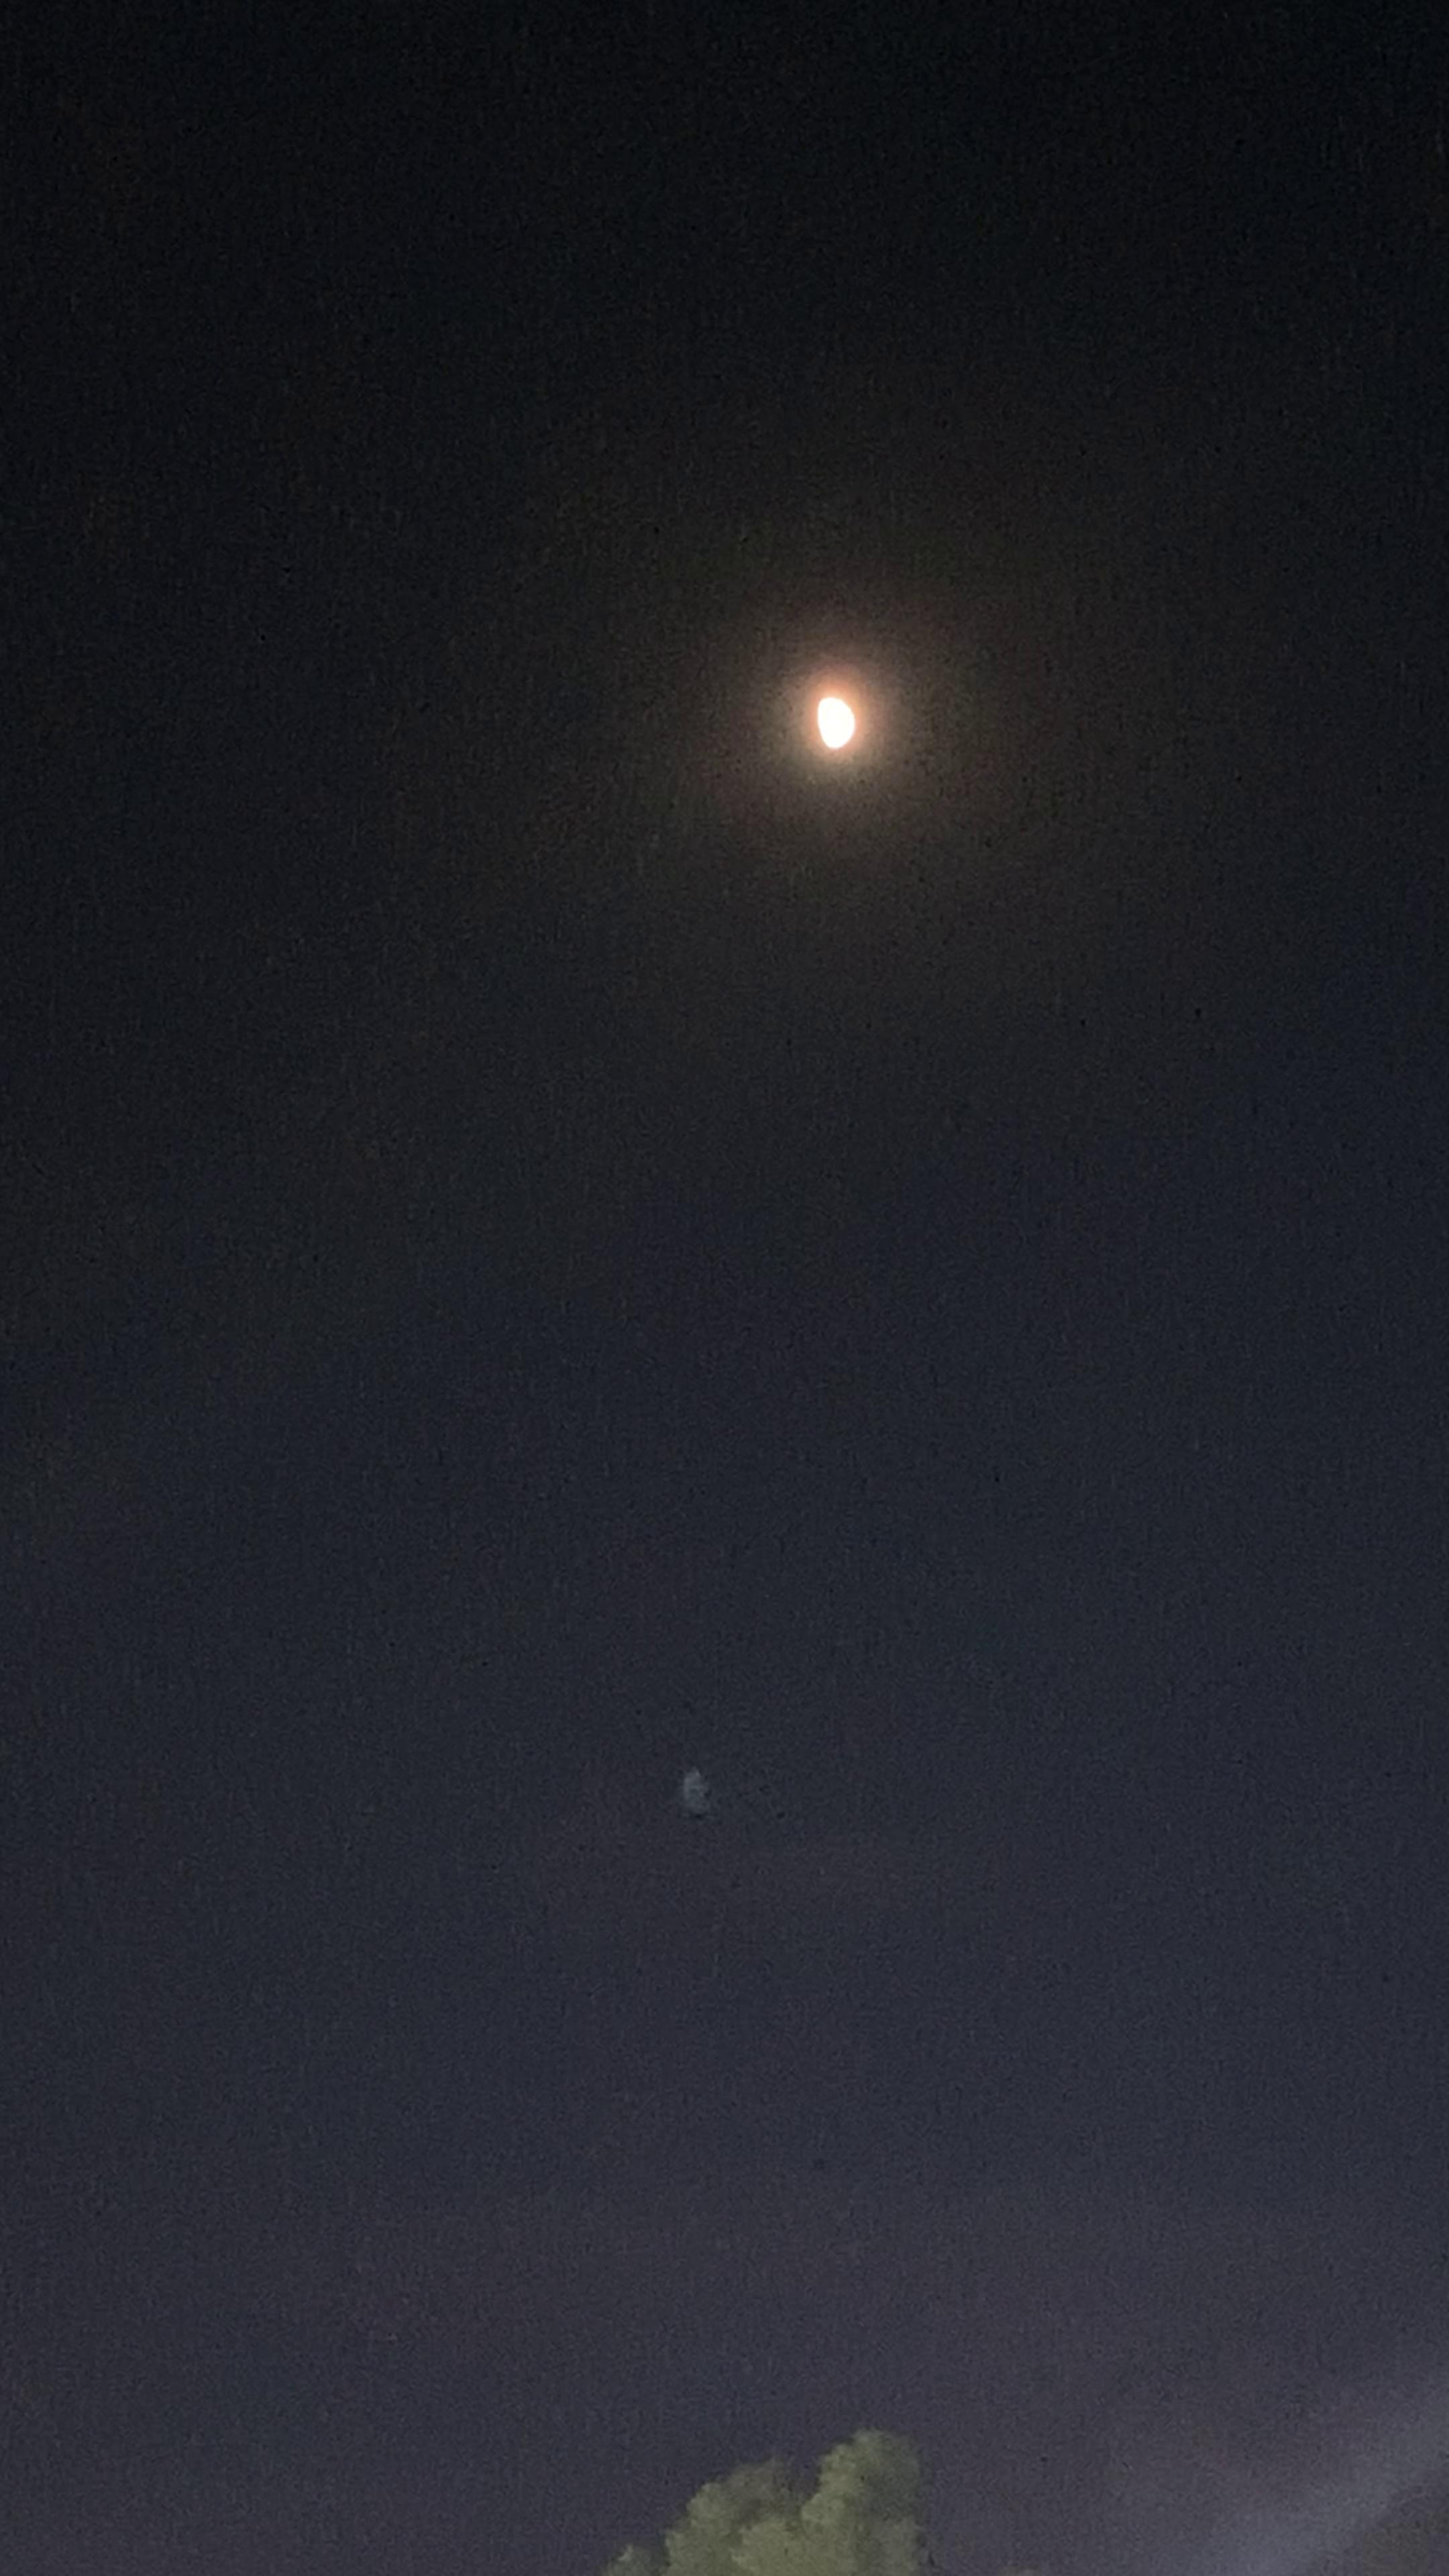moon: (752, 642, 913, 789)
